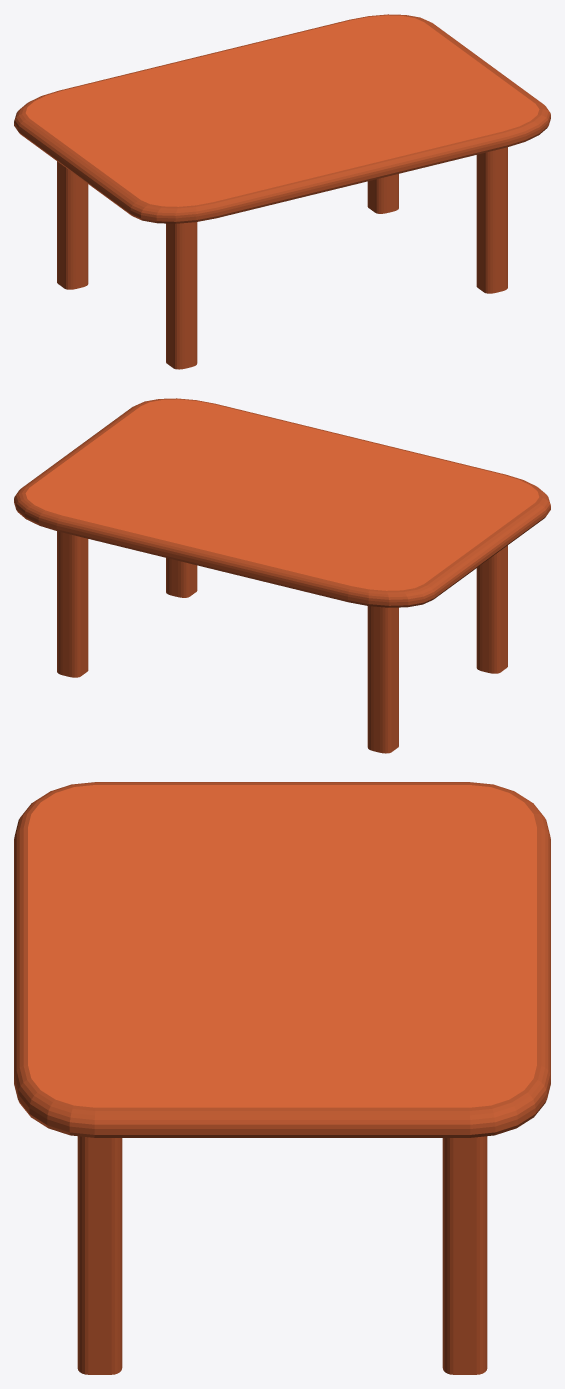
Rendered from WoodTable1.fbx.
3 renders of one model, top to bottom at view 1: azimuth 30°, elevation 25°; view 2: azimuth 150°, elevation 25°; view 3: azimuth 270°, elevation 25°, orthographic. The views are drawn at different scales.
Parts seen in each view (by area): view 1: WoodTable1; view 2: WoodTable1; view 3: WoodTable1.
Part boxes in pixels (left/top/right/bottom): WoodTable1: left=14, top=14, right=550, bottom=369; WoodTable1: left=14, top=398, right=550, bottom=753; WoodTable1: left=14, top=782, right=550, bottom=1374.
Size of the model in its own units: 300 by 120 by 200.
